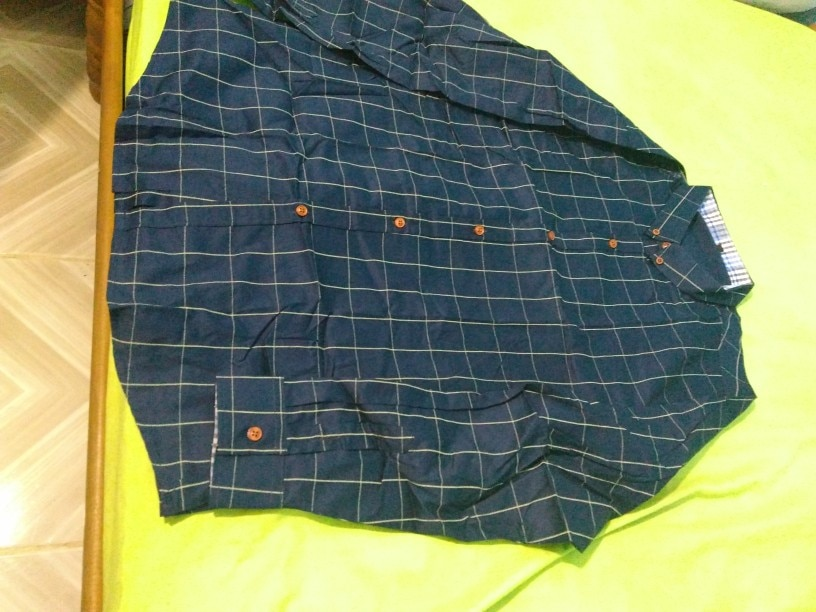shirts: (156, 35, 759, 537)
